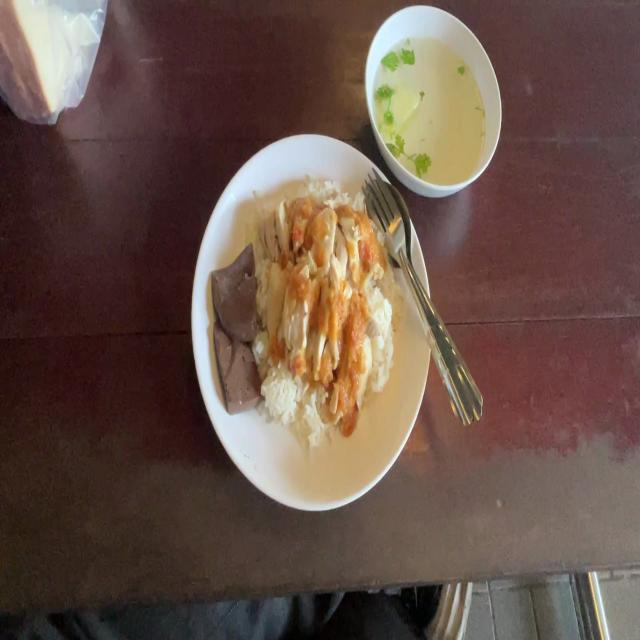chicken_rice: (263, 204, 377, 418)
noodle: (210, 238, 260, 346), (213, 318, 262, 413)
